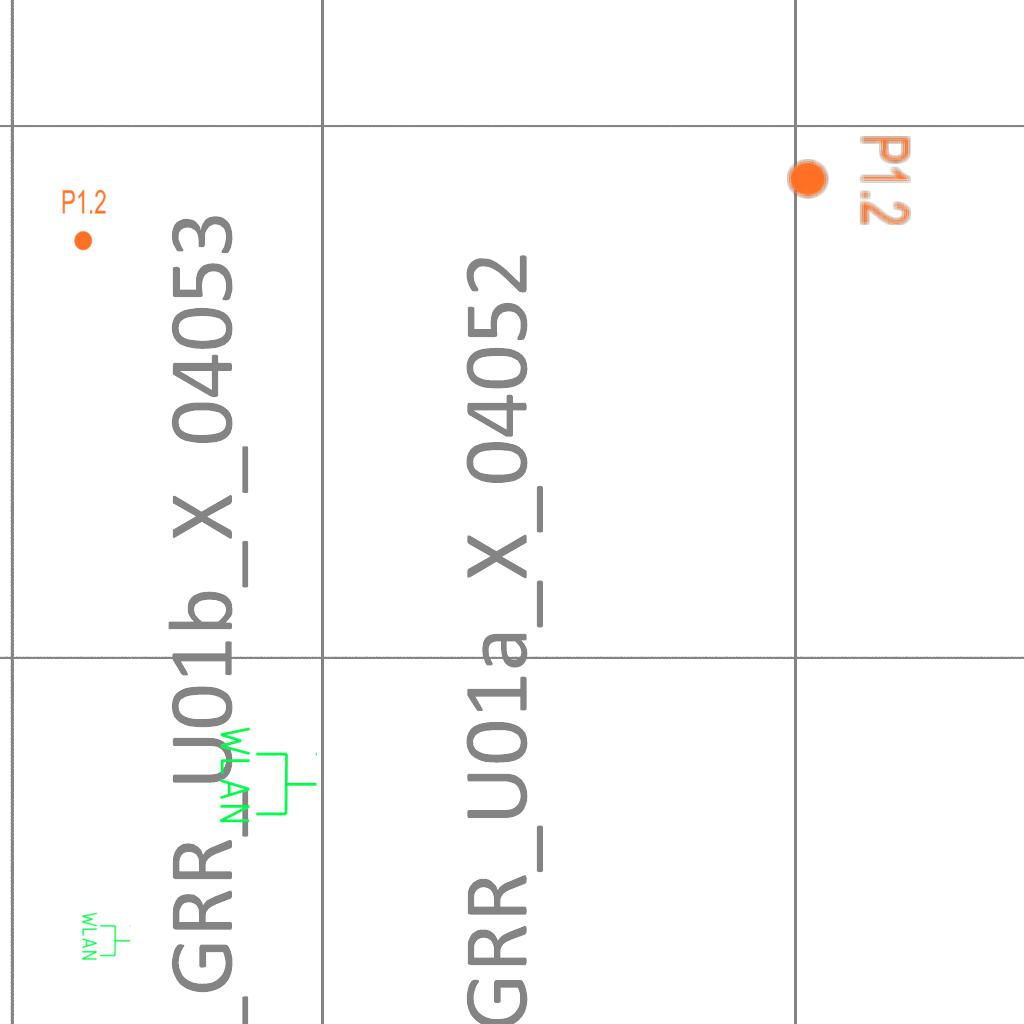Downlight_LED_Einbauleuchten_Flur: (785, 134, 913, 227), (61, 188, 107, 252)
WLAN: (216, 722, 320, 827), (80, 910, 132, 962)
